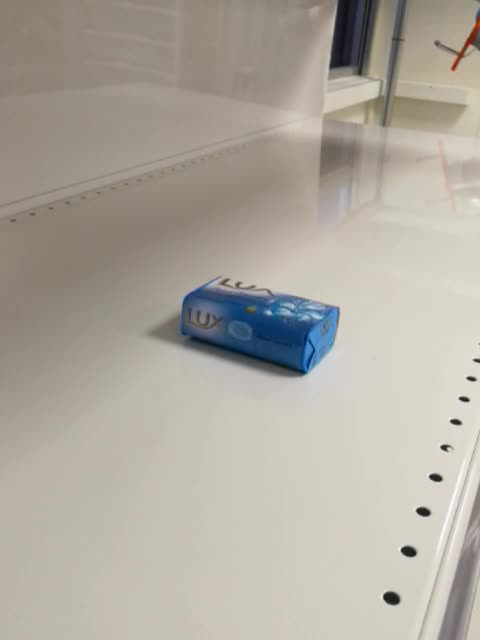soap: (178, 274, 341, 378)
